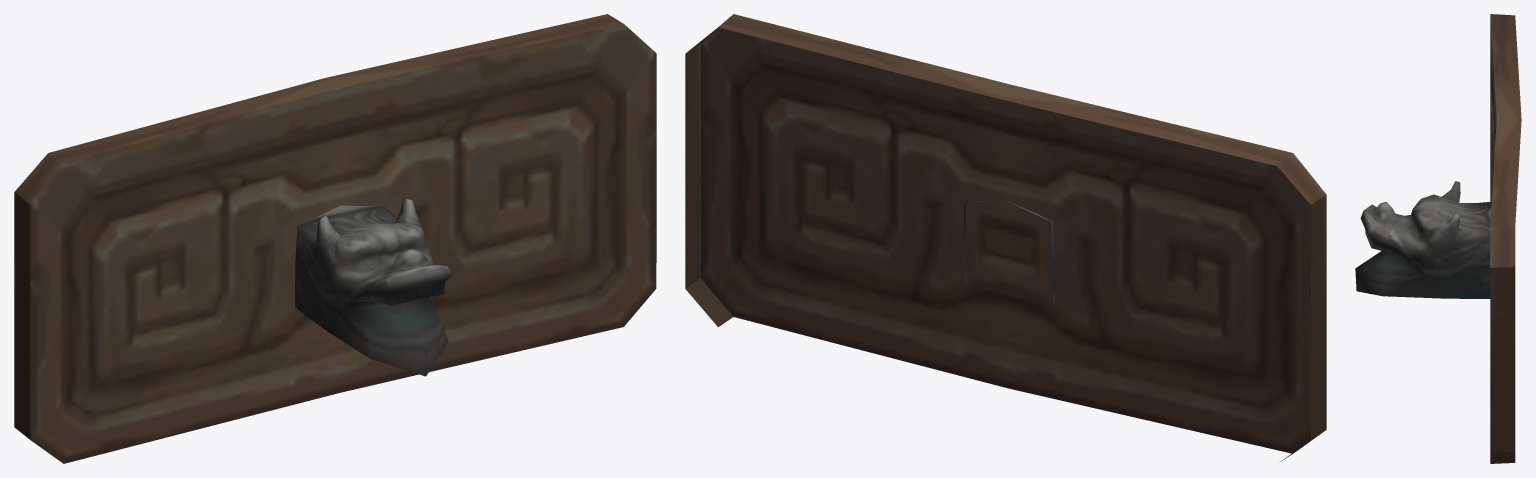
File: fb_jjc_zj_05_c.FBX
The picture shows the model from 3 angles, left to right: view 1: azimuth 30°, elevation 25°; view 2: azimuth 150°, elevation 25°; view 3: azimuth 270°, elevation 25°; orthographic projection. The views are drawn at different scales.
Parts seen in each view (by area): view 1: fb_jjc_zj_05_c; view 2: fb_jjc_zj_05_c; view 3: fb_jjc_zj_05_c.
Part boxes in pixels (left/top/right/bottom): fb_jjc_zj_05_c: left=14, top=14, right=656, bottom=463; fb_jjc_zj_05_c: left=685, top=14, right=1326, bottom=461; fb_jjc_zj_05_c: left=1355, top=14, right=1521, bottom=463.
Size of the model in its own units: 660 by 307 by 193.
